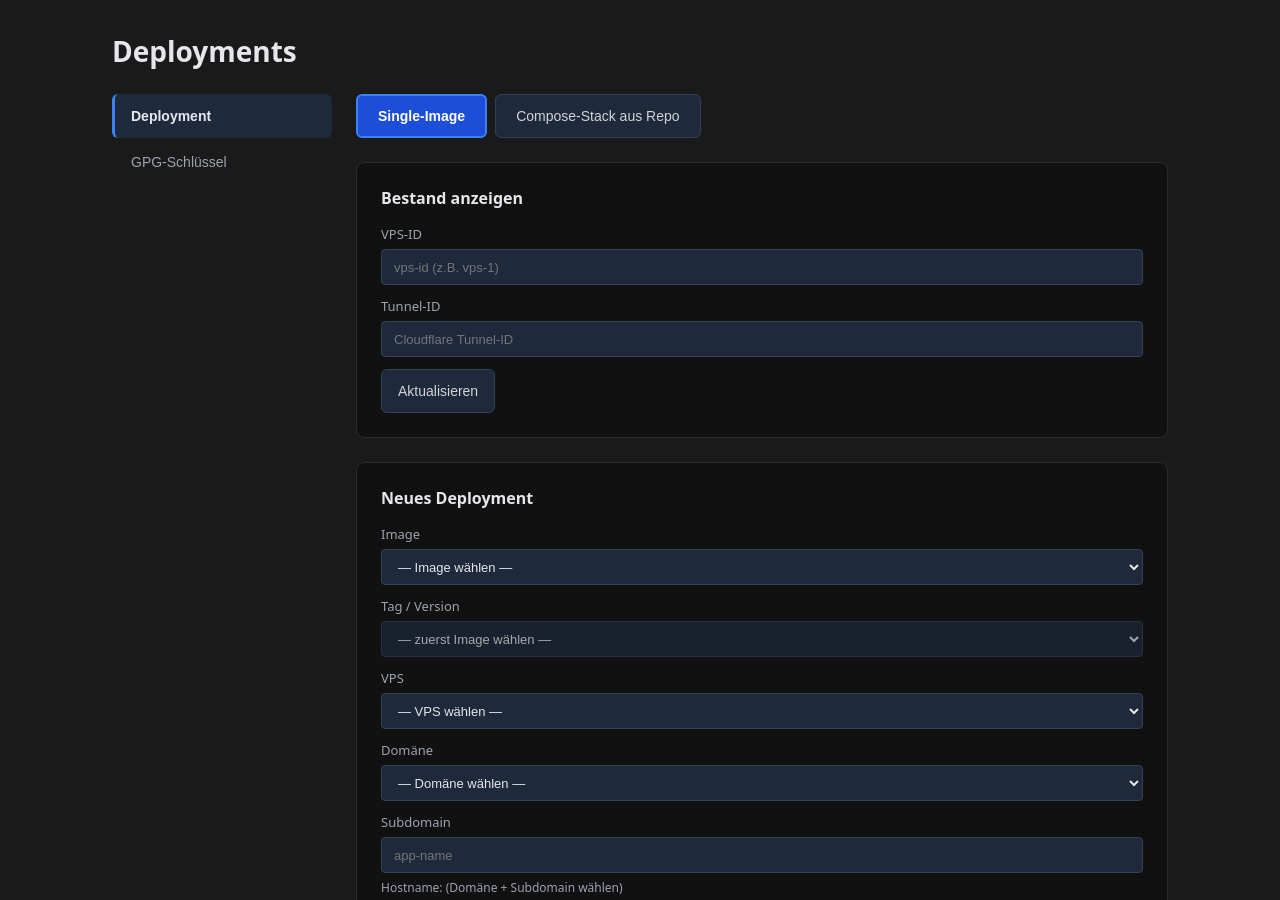
Test case: AC9 — Tunnel-Badge: Text je Zustand › shows "Tunnel ✓" when tunnelPresent=true
Select "vps-1" in the dropdown with id "deploy-vps-select" at (762, 711), box [381, 693, 1143, 729]
Wait 100 ms
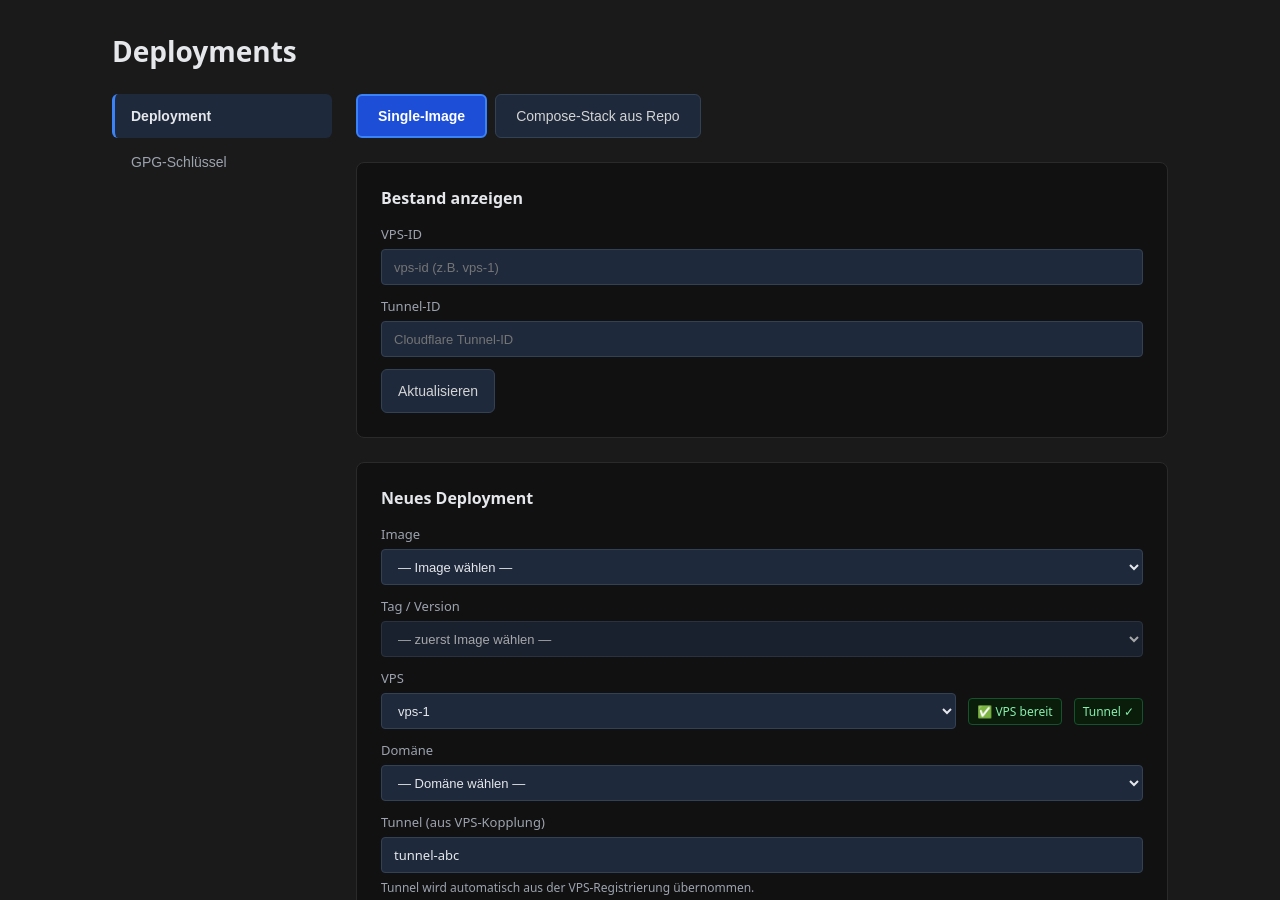
Expected: the message "Tunnel ✓" is shown, [1074, 698, 1143, 724]
